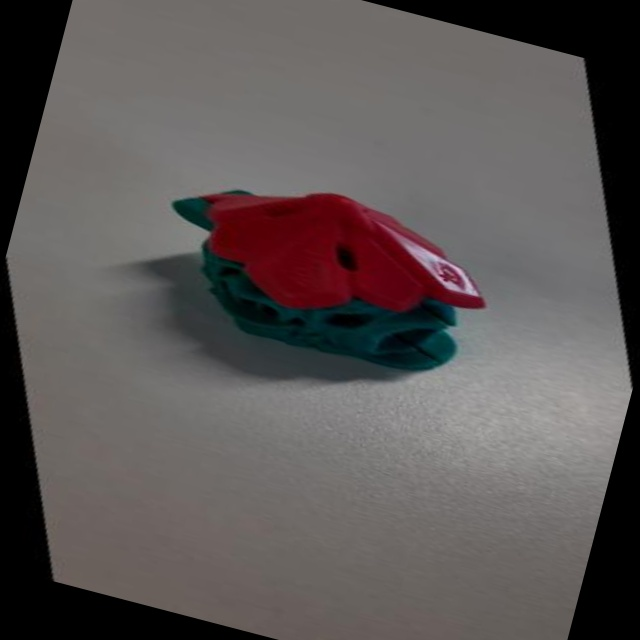House: (113, 133, 555, 434)
